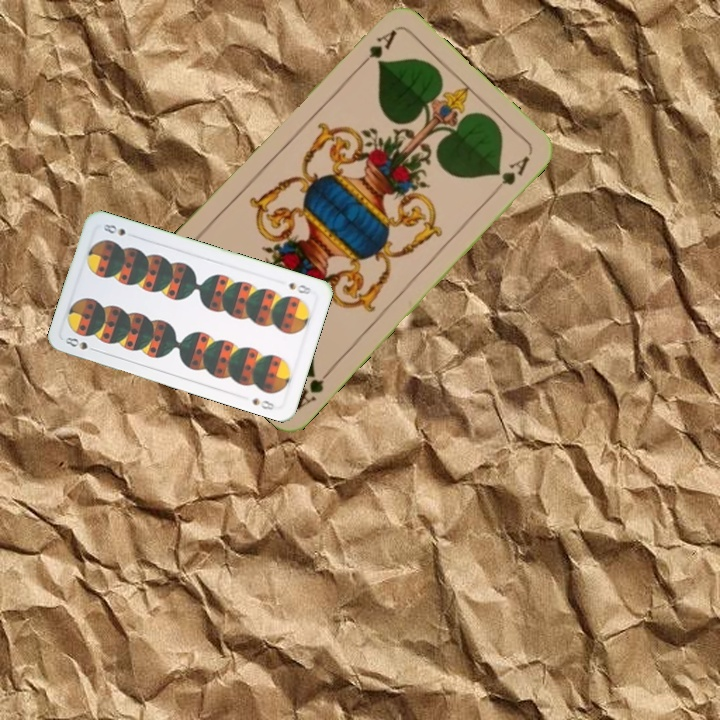GA: (352, 25, 399, 73), (291, 363, 336, 412)
S8: (285, 278, 314, 297), (61, 333, 90, 352)
